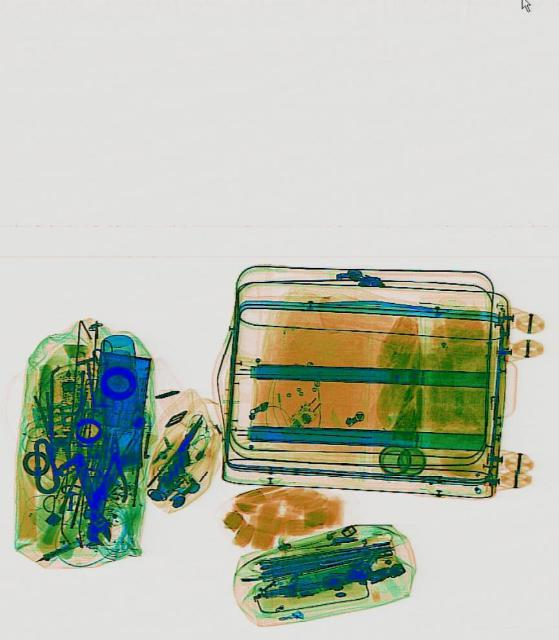Pliers: (98, 432, 128, 500)
Wrench: (60, 448, 115, 548)
